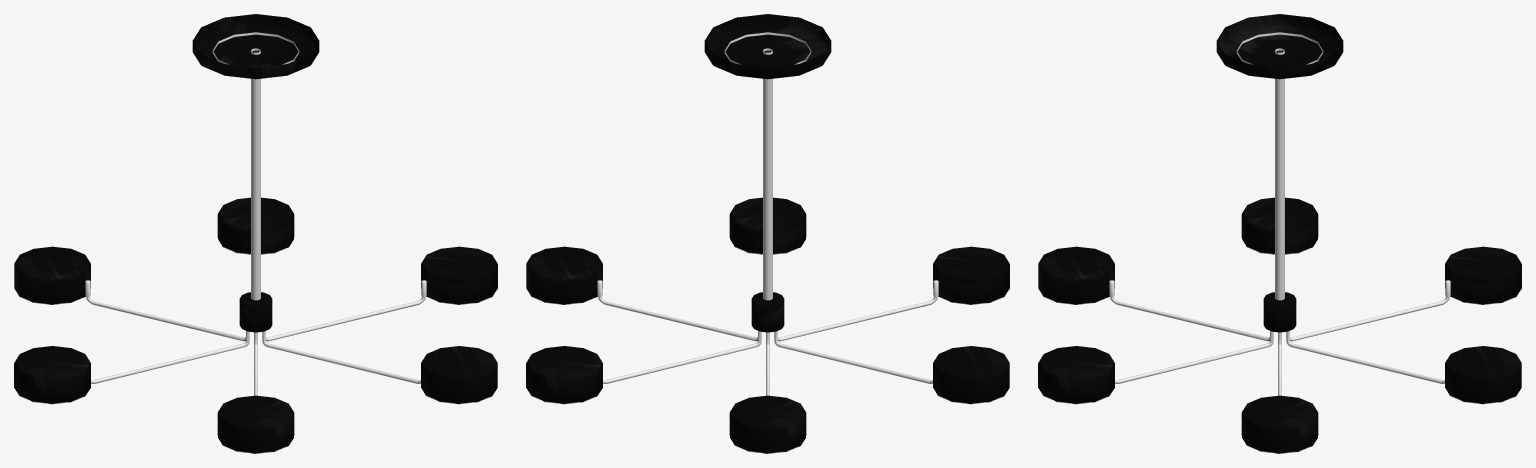
File: ceiling_light_01.fbx
The picture shows the model from 3 angles, left to right: view 1: azimuth 30°, elevation 25°; view 2: azimuth 150°, elevation 25°; view 3: azimuth 270°, elevation 25°; orthographic projection.
Visible parts, largest first — view 1: Cylinder.001; view 2: Cylinder.001; view 3: Cylinder.001.
Part boxes in pixels (x1=…): Cylinder.001: x1=14, y1=14, x2=497, y2=453; Cylinder.001: x1=526, y1=14, x2=1009, y2=453; Cylinder.001: x1=1038, y1=14, x2=1521, y2=453.
Size of the model in its own units: 130 by 79.83 by 115.
